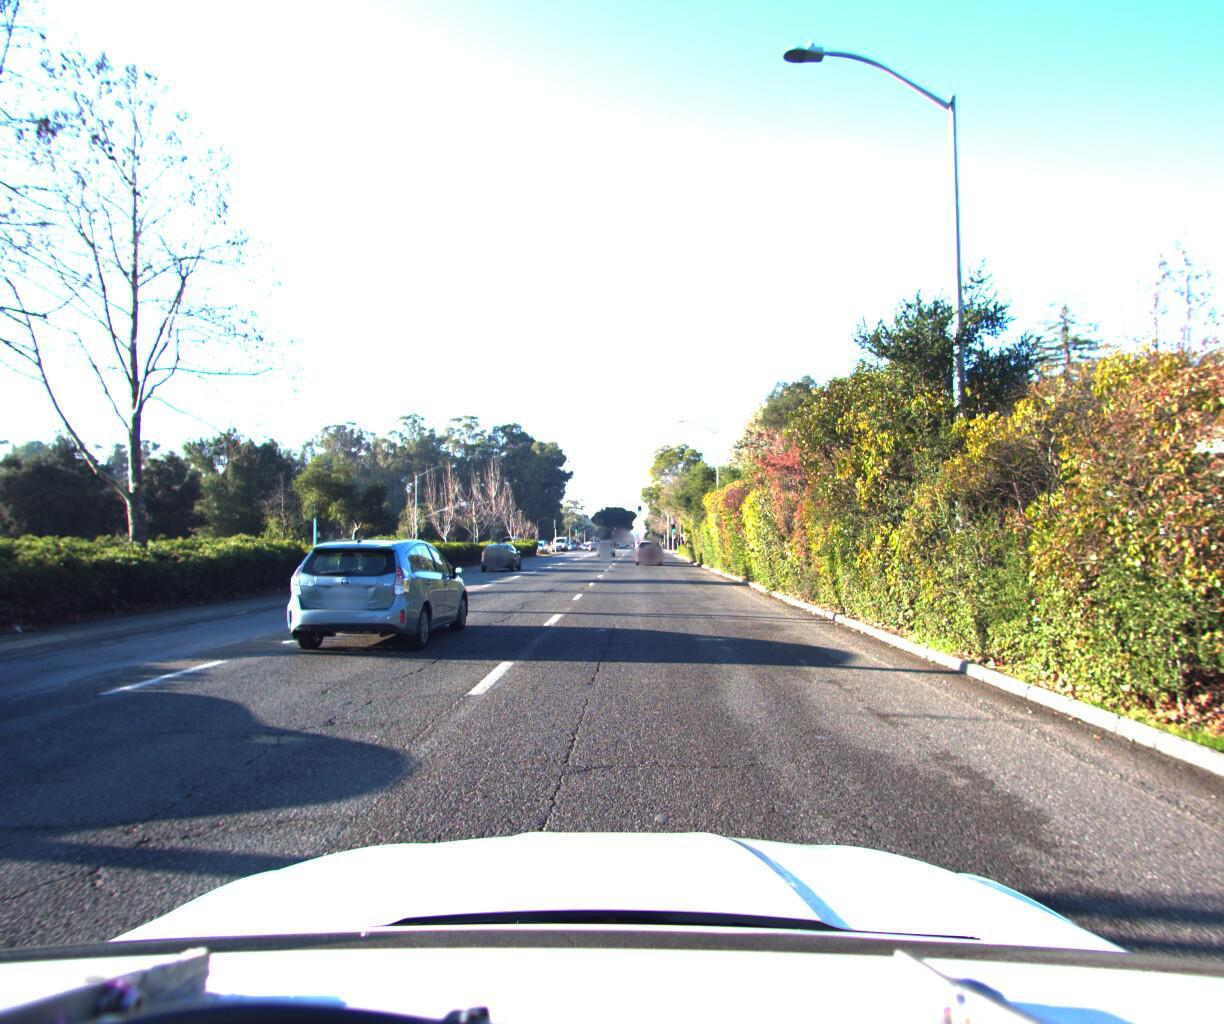car: (285, 528, 476, 654), (0, 549, 10, 831), (476, 536, 522, 567), (633, 535, 661, 560), (598, 534, 617, 551)
